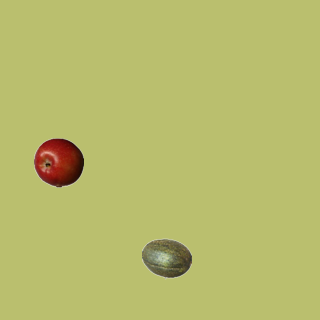Apple Braeburn: (33, 137, 83, 187)
Melon Piel de Sapo: (141, 233, 191, 283)
